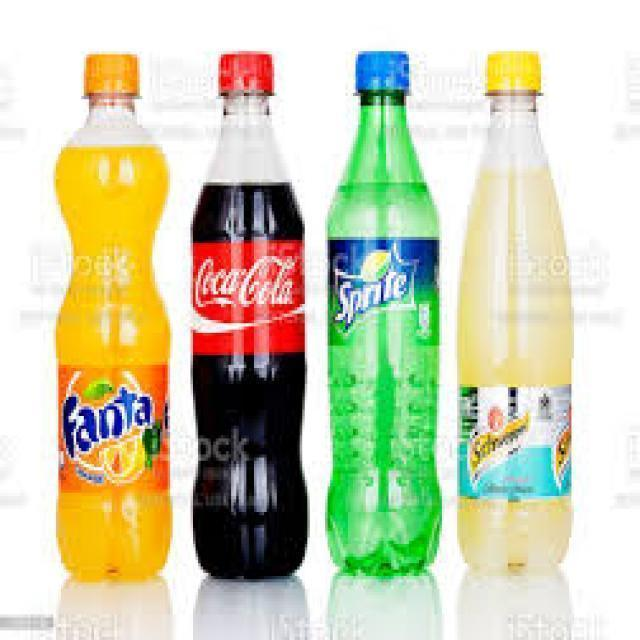Plastic: (50, 51, 172, 588), (186, 50, 308, 580), (322, 54, 442, 584), (454, 48, 574, 574)
